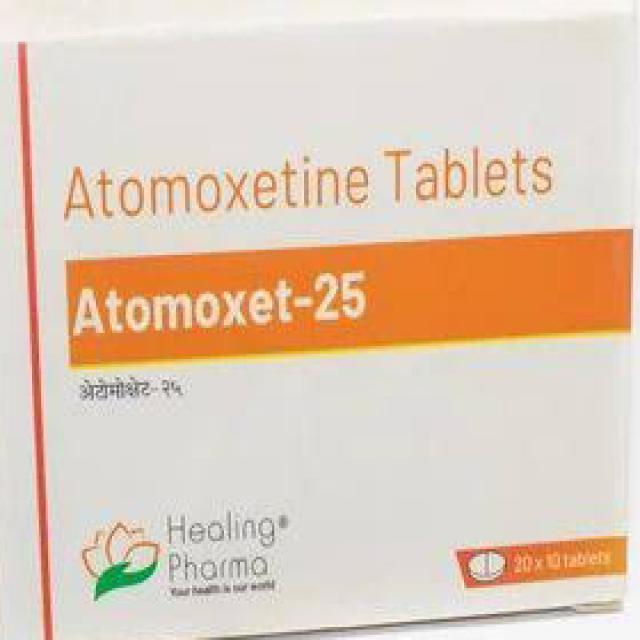drug-name: (72, 262, 366, 340)
